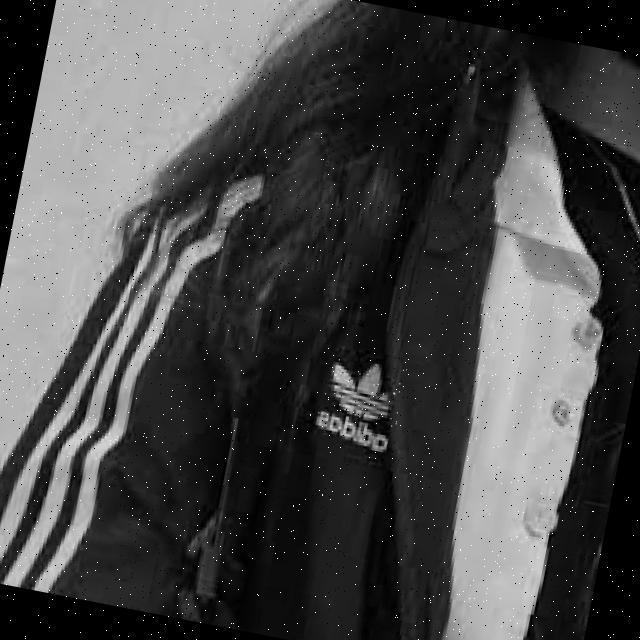Adidas: (318, 353, 411, 430)
